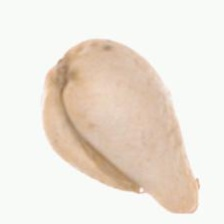L1: (39, 43, 72, 97), (160, 192, 201, 215)
L2: (39, 39, 200, 214)
